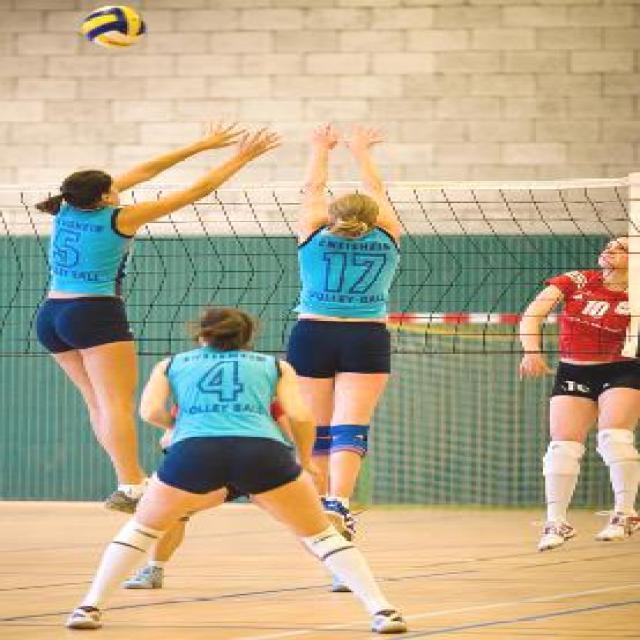volleyball: (82, 7, 144, 48)
